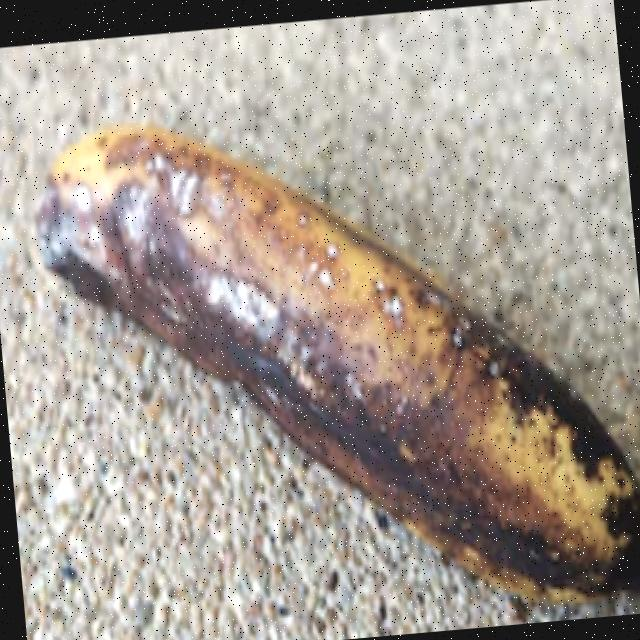Rotten: (19, 66, 640, 640)
